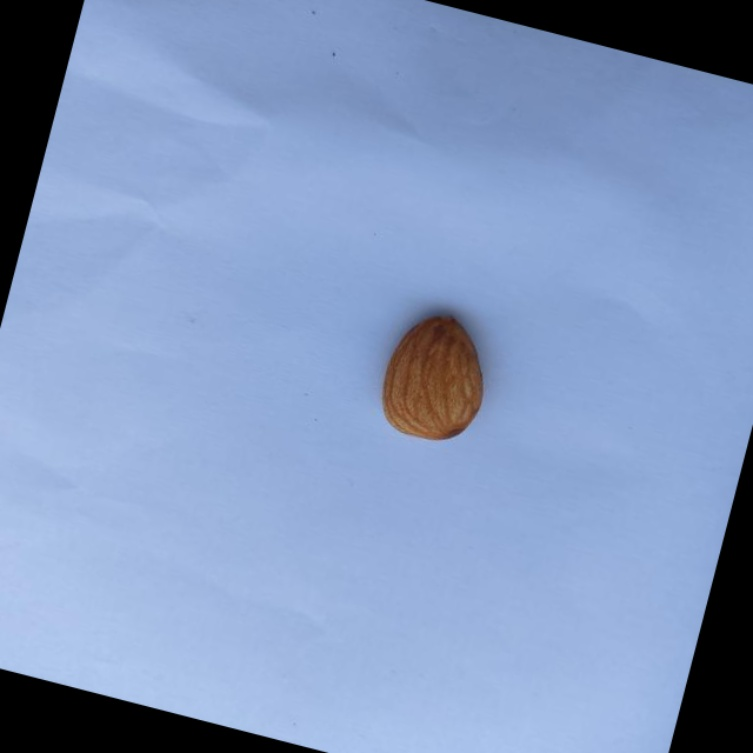grade1: (359, 292, 510, 460)
